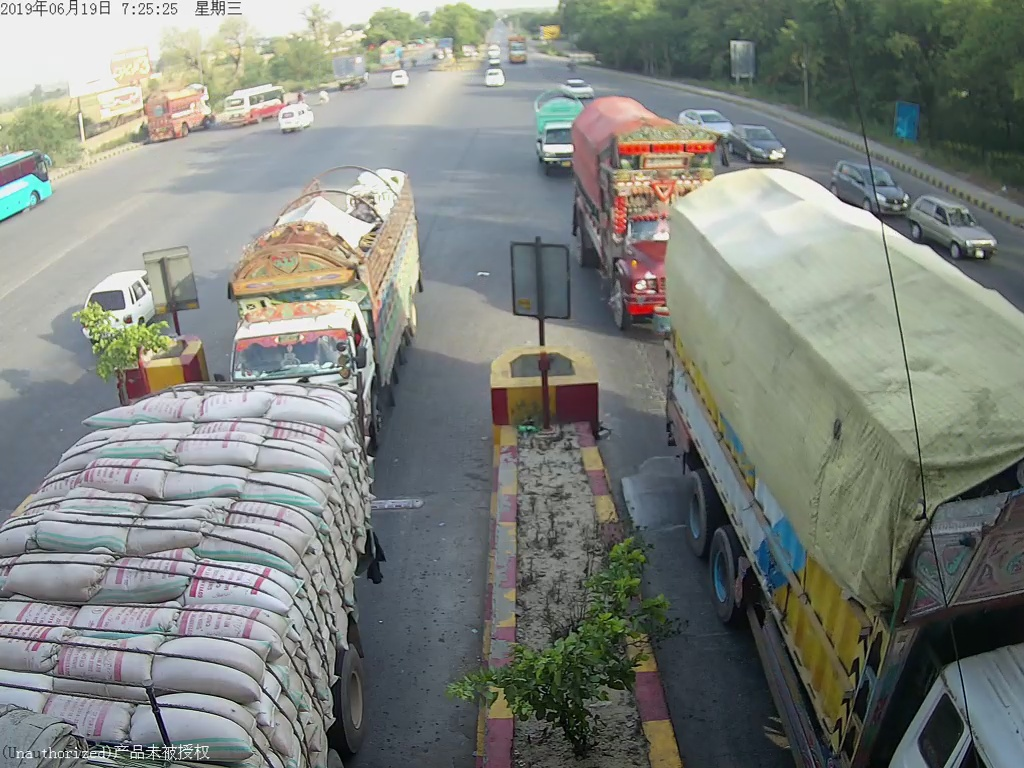Cat-4: (221, 183, 440, 384)
